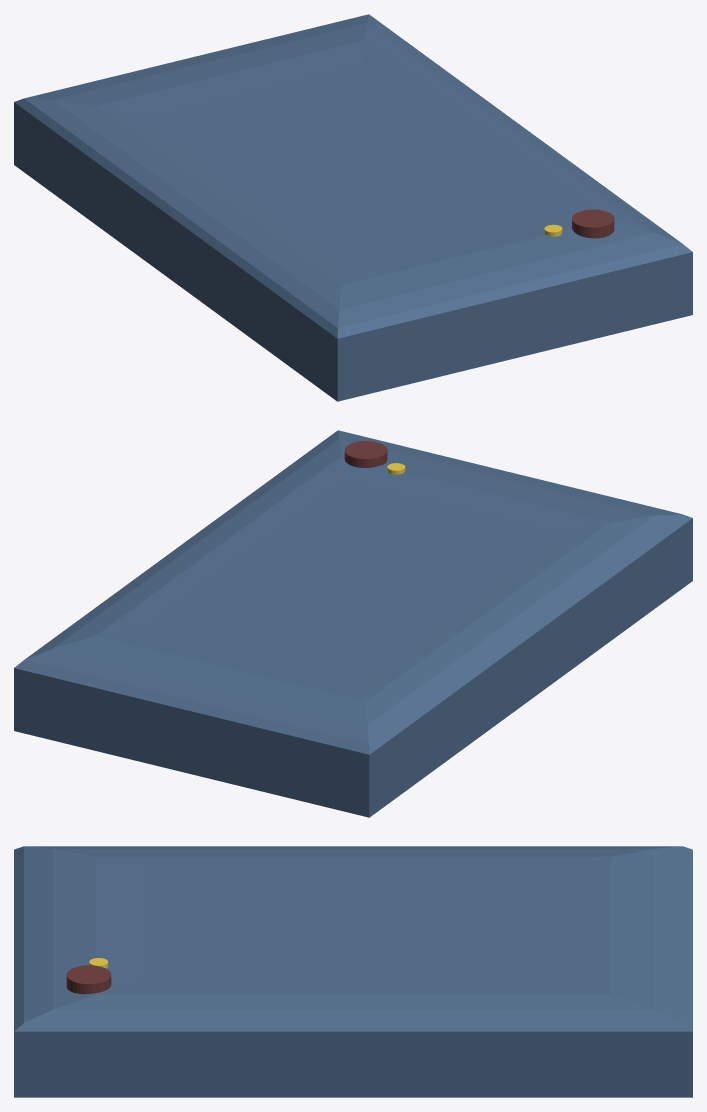
The model's file is scaner (1).fbx.
The picture shows the model from 3 angles, top to bottom: view 1: azimuth 30°, elevation 25°; view 2: azimuth 150°, elevation 25°; view 3: azimuth 270°, elevation 25°; orthographic projection. The views are drawn at different scales.
Parts seen in each view (by area): view 1: Cube, Cylinder; view 2: Cube, Cylinder; view 3: Cube, Cylinder.
Boxes of the visible parts, x1,y1,x2,y2 form: Cube: [14, 14, 692, 401]; Cylinder: [572, 209, 614, 238]; Cube: [14, 430, 692, 817]; Cylinder: [344, 441, 387, 467]; Cube: [14, 846, 692, 1097]; Cylinder: [66, 965, 111, 994].
Bounding box in the file's own units: 200 × 46.19 × 315.
